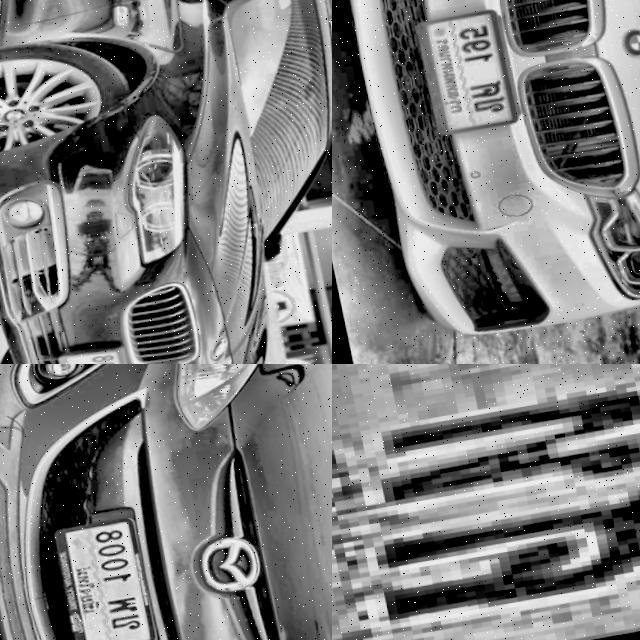license-plate: (332, 364, 640, 640), (43, 512, 156, 640), (411, 8, 518, 138), (38, 340, 134, 364)
